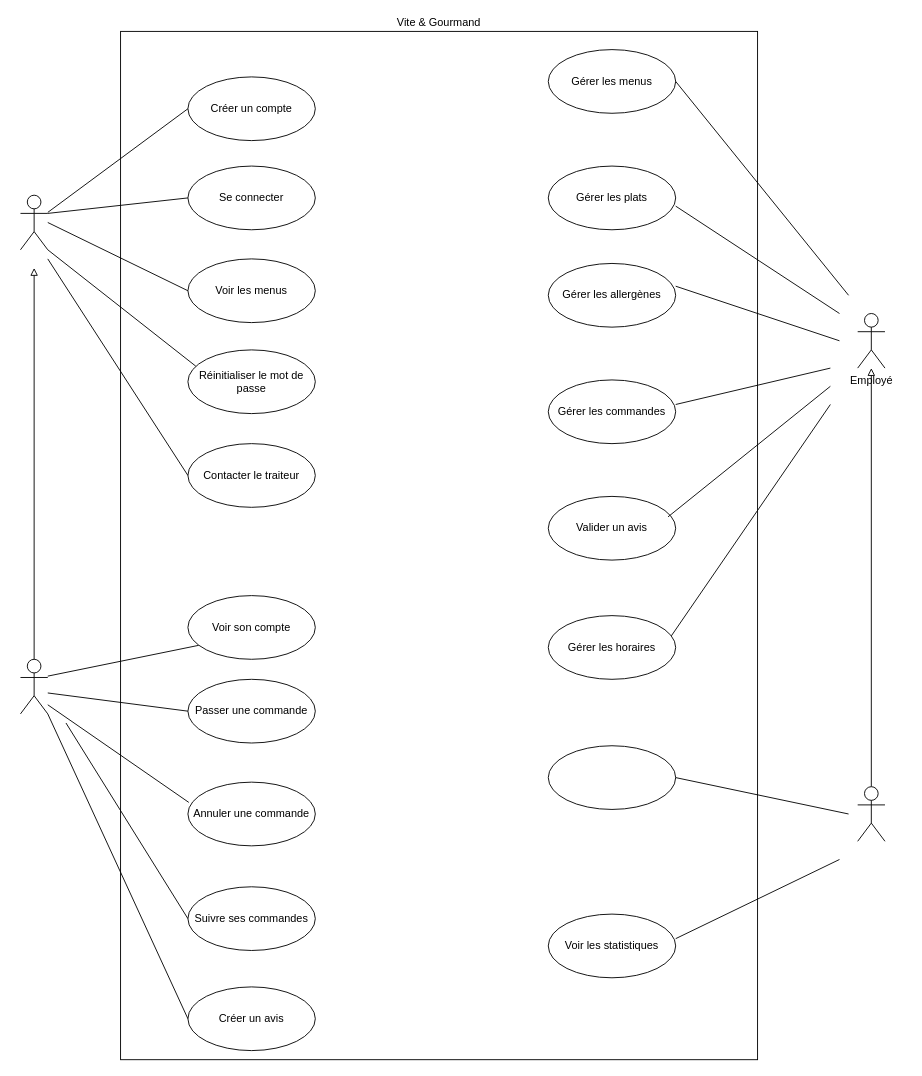
The diagram is 922 pixels wide and 1076 high, and some of its shapes have lost their labels. The box of each missing label's shape, as (x1, y1, x2, y2) in pixels:
Administrateur: (857, 786, 885, 841)
Client: (20, 658, 48, 714)
Gérer les comptes employé: (547, 745, 676, 809)
Visiteur: (20, 194, 48, 250)
